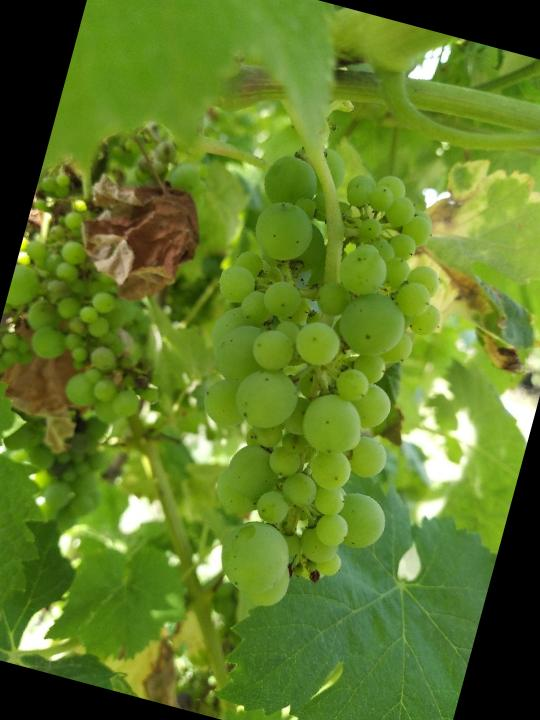grape: (137, 127, 482, 635)
